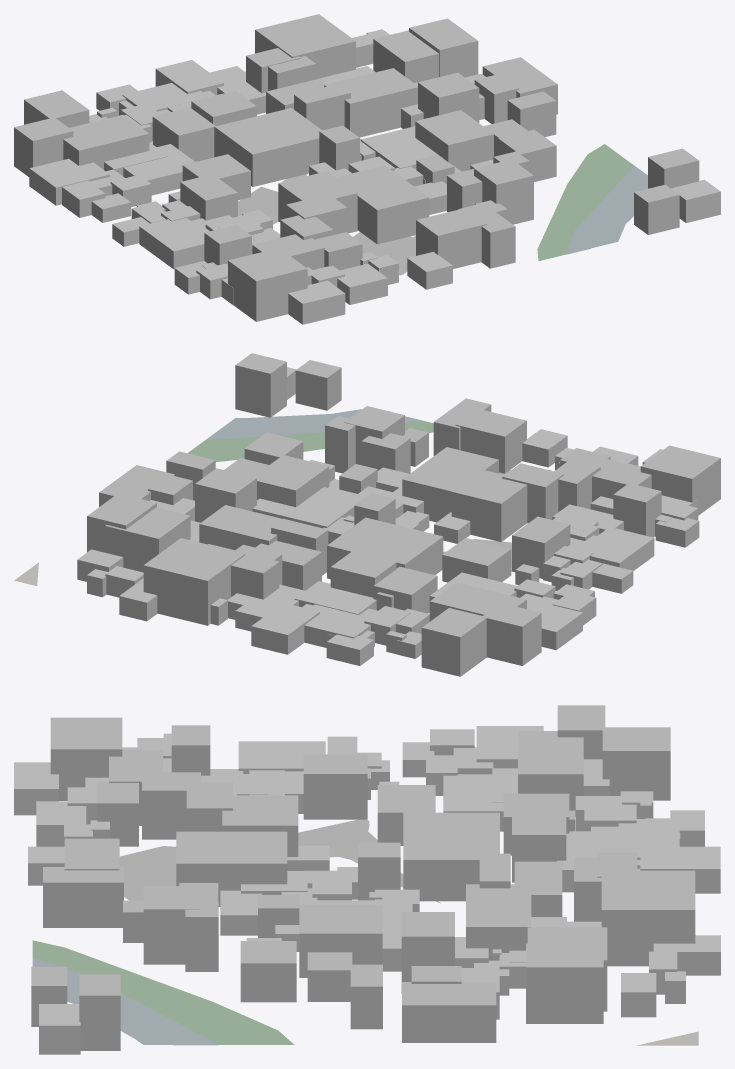
The model's file is 123_103_mid.glb.
3 views of the same model, one above another, from view 1: azimuth 30°, elevation 25°; view 2: azimuth 150°, elevation 25°; view 3: azimuth 270°, elevation 25° (orthographic). The views are drawn at different scales.
Size of the model in its own units: 538 by 47.86 by 531.
